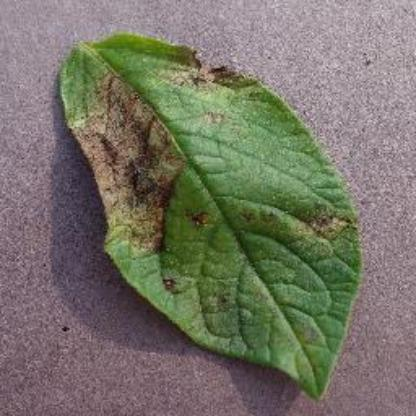Late-Blight: (50, 36, 358, 398)
